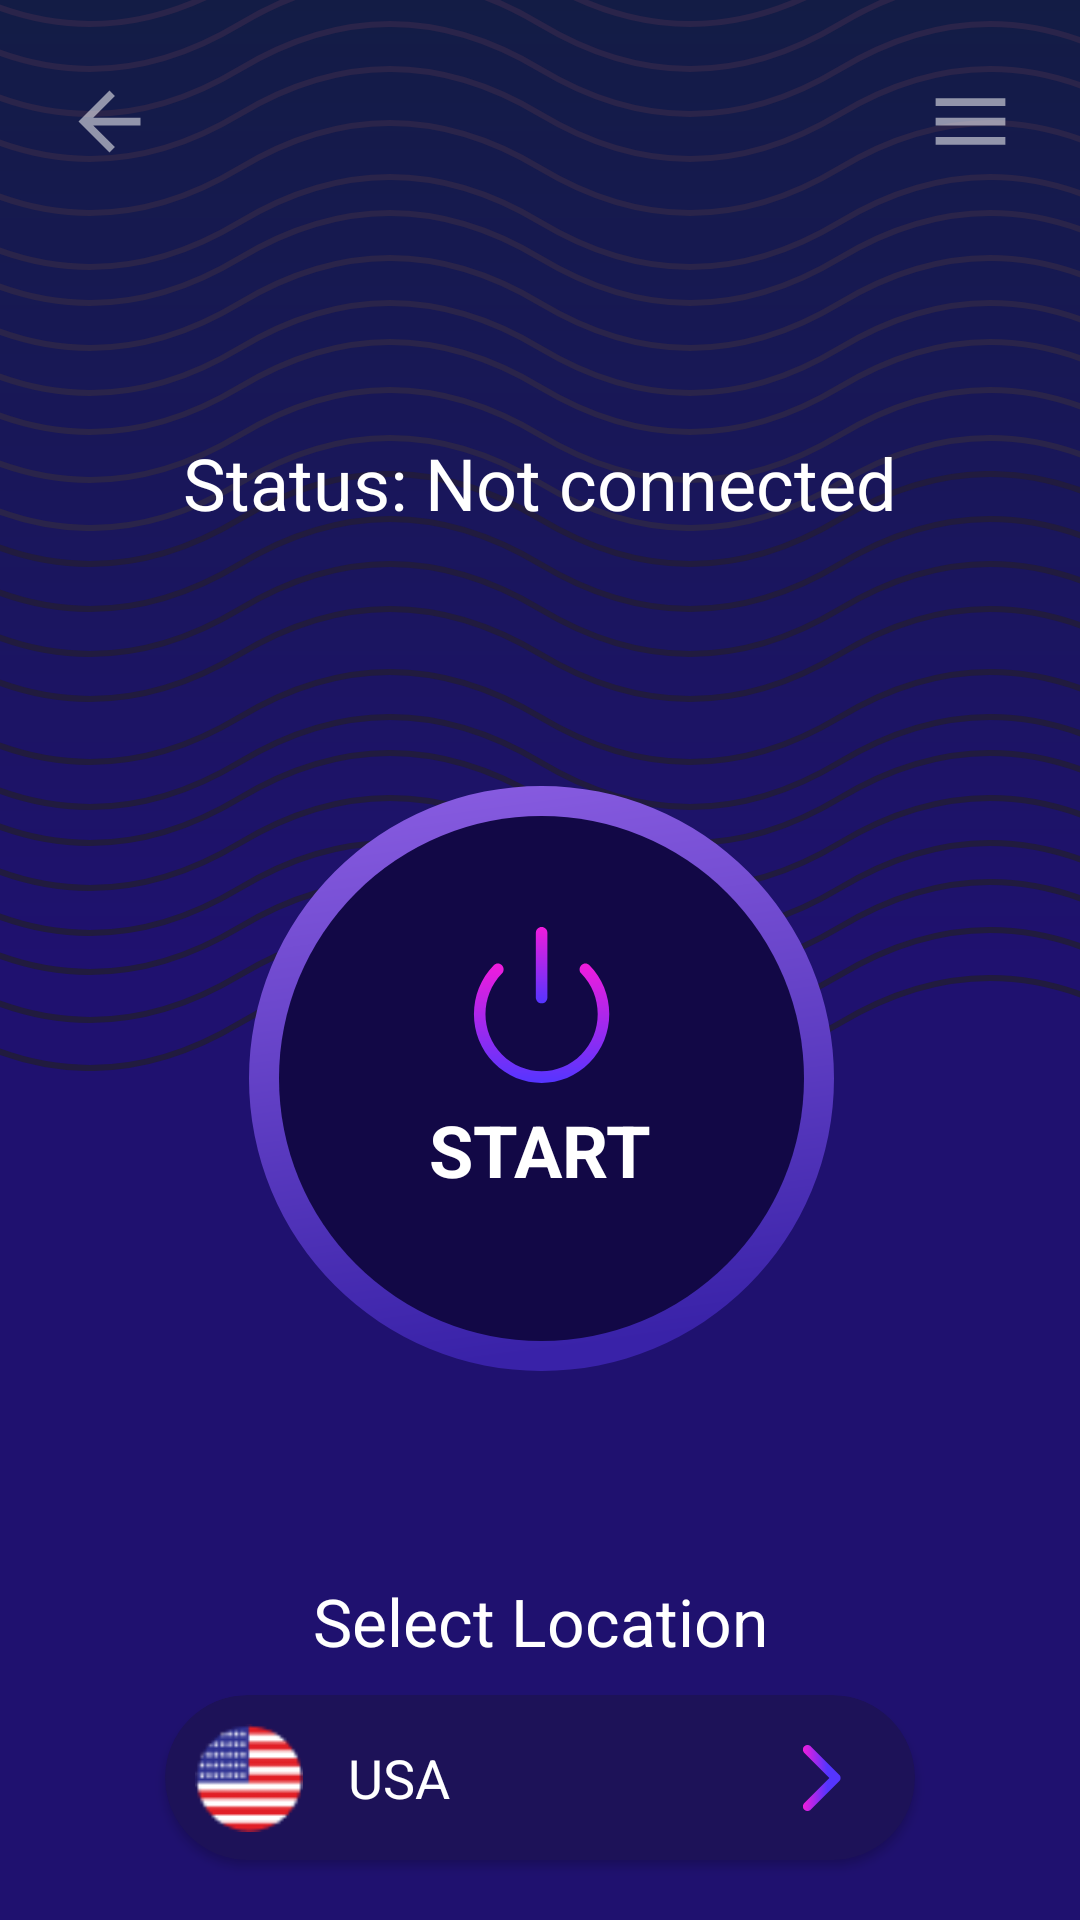

Named icons in this screenshot (1080*1920) and their bounding boxes, {"x1": x1, "y1": y1, "x2": x2, "y2": y2}:
arrow: {"x1": 803, "y1": 1745, "x2": 841, "y2": 1811}
back: {"x1": 78, "y1": 90, "x2": 141, "y2": 153}
country: {"x1": 195, "y1": 1725, "x2": 303, "y2": 1832}
menu: {"x1": 935, "y1": 98, "x2": 1006, "y2": 145}
